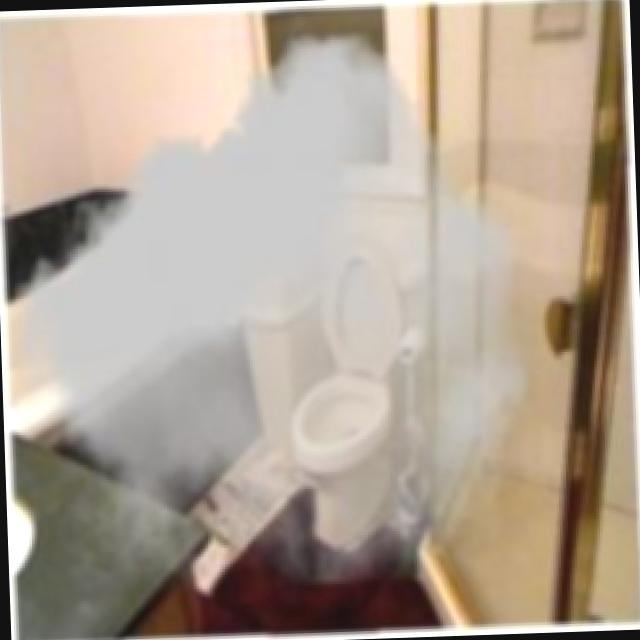smoke: (132, 126, 486, 380)
